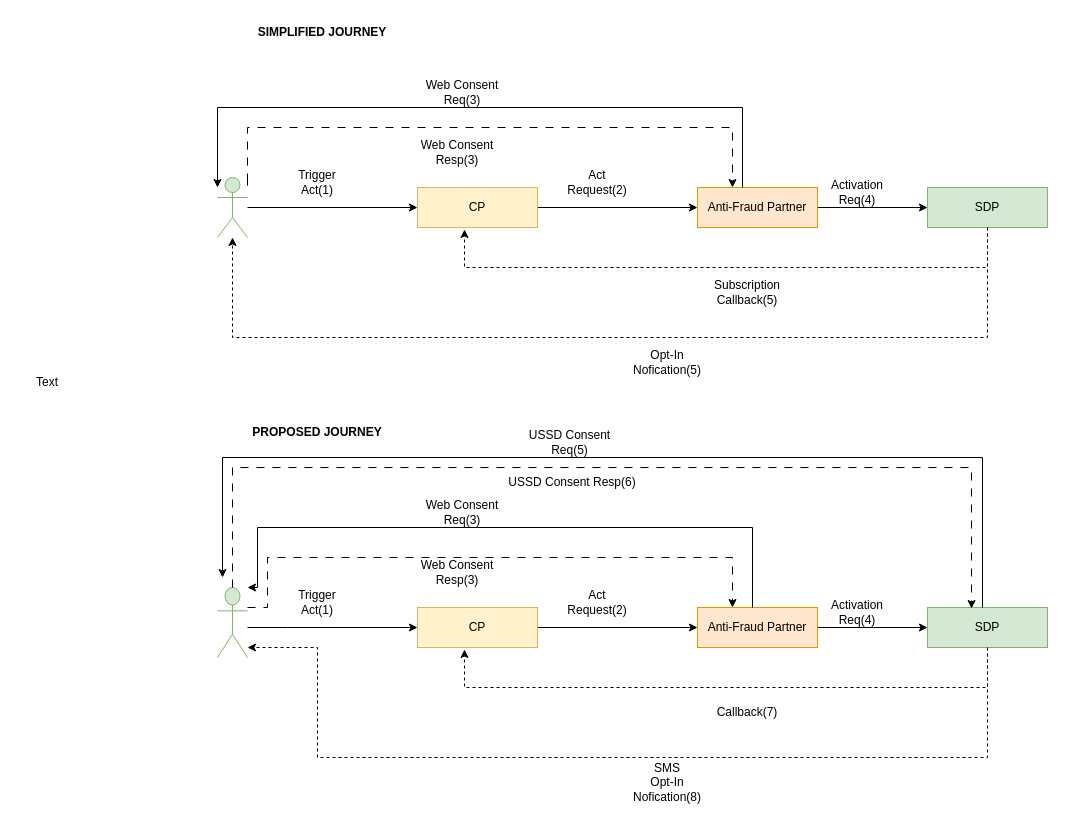
Image size: 1065x821. Some labels were removed from this diagram. The shapes that lost their labels are listed below. From the top down, each one's box as (x1, y1, x2, y2) in pixels, then its label:
(216, 176, 248, 238): Actor
(216, 586, 248, 658): Customer
